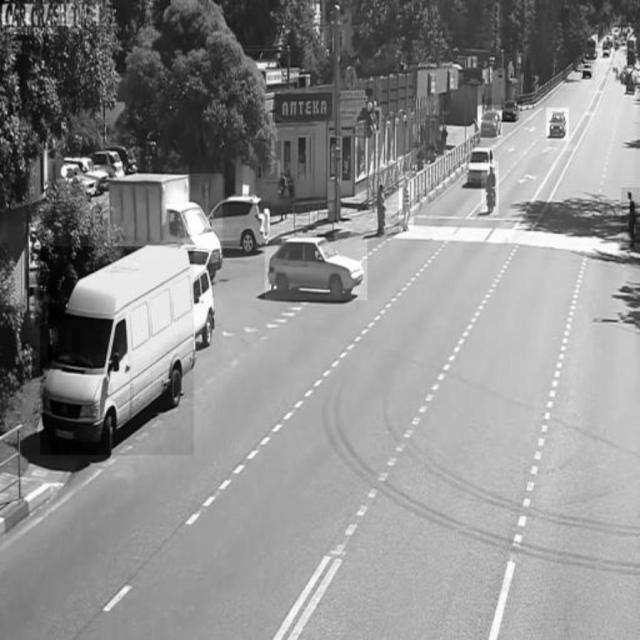person: (621, 187, 640, 256), (375, 179, 389, 243), (399, 175, 414, 231)
vehicle: (40, 246, 194, 454), (109, 174, 222, 255), (265, 238, 367, 300), (208, 195, 269, 255), (466, 143, 491, 189), (482, 162, 499, 216), (478, 106, 503, 138), (547, 108, 569, 140), (502, 99, 522, 125), (580, 60, 595, 80)
